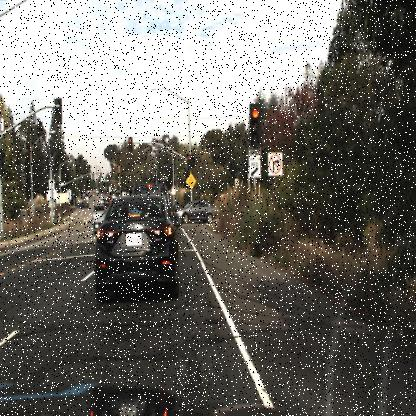car: (92, 191, 182, 307), (175, 199, 225, 222), (91, 210, 113, 238)
trafficLight-Red: (249, 101, 262, 150), (126, 135, 134, 154), (186, 152, 193, 170)
